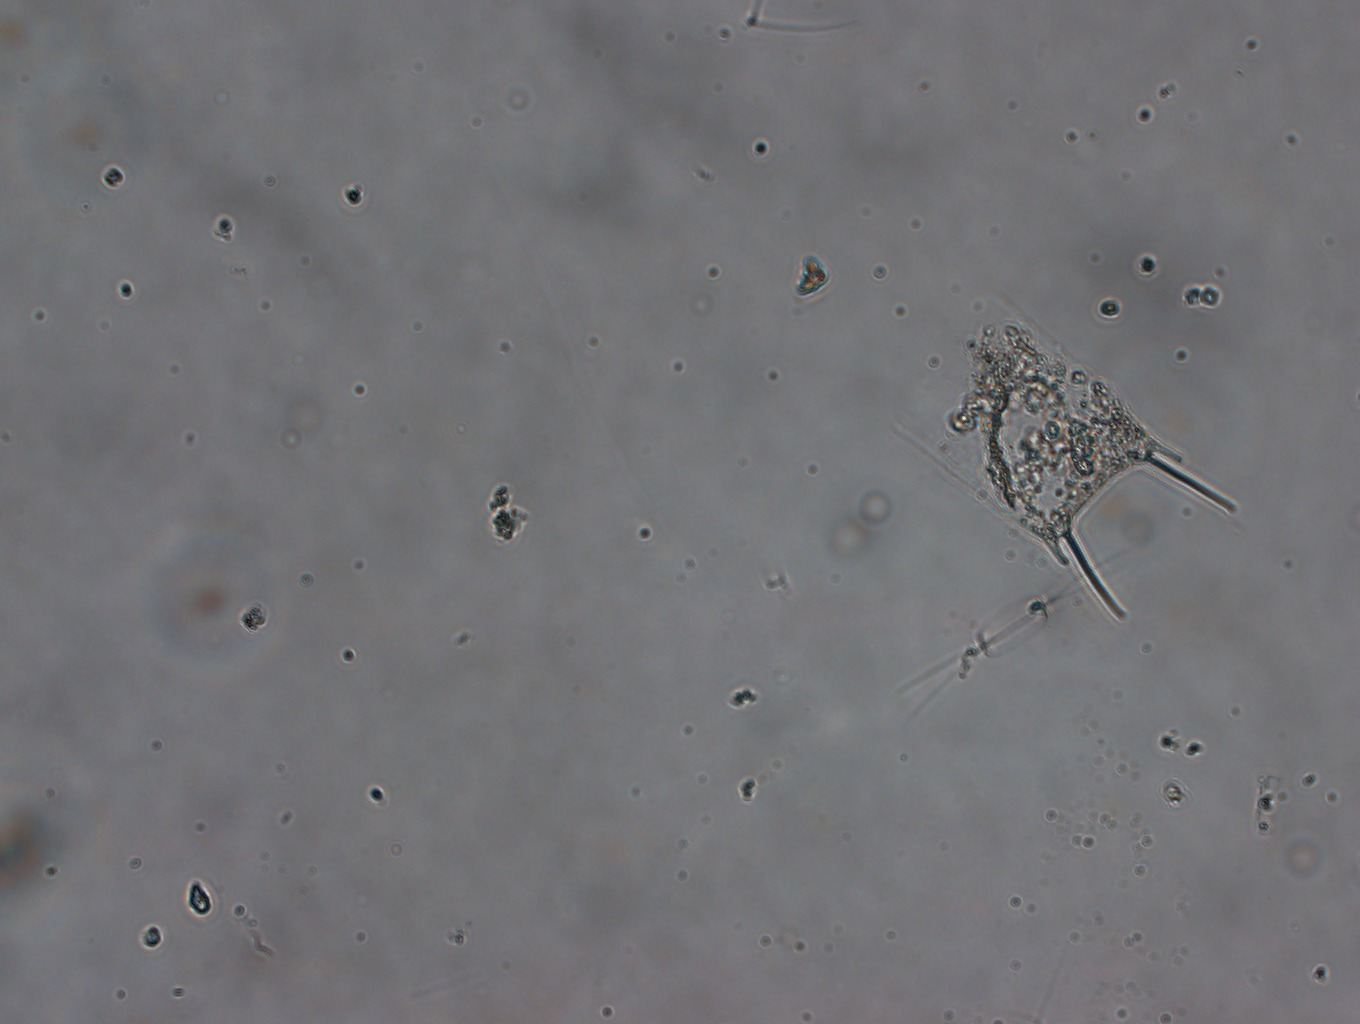biddulphia: (885, 297, 1236, 620)
